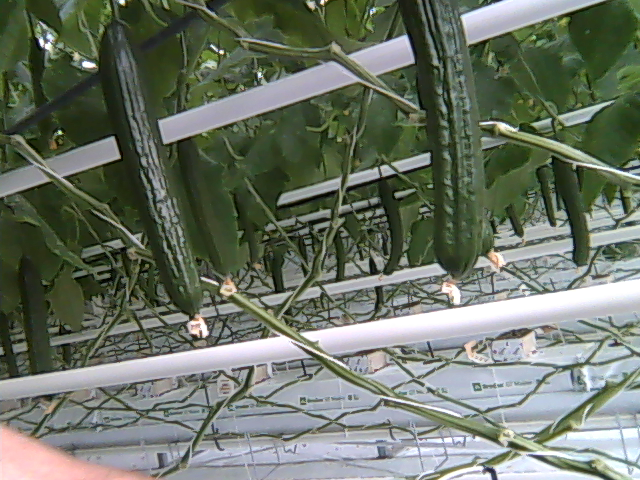concombre: (94, 6, 214, 342), (395, 1, 492, 308)
